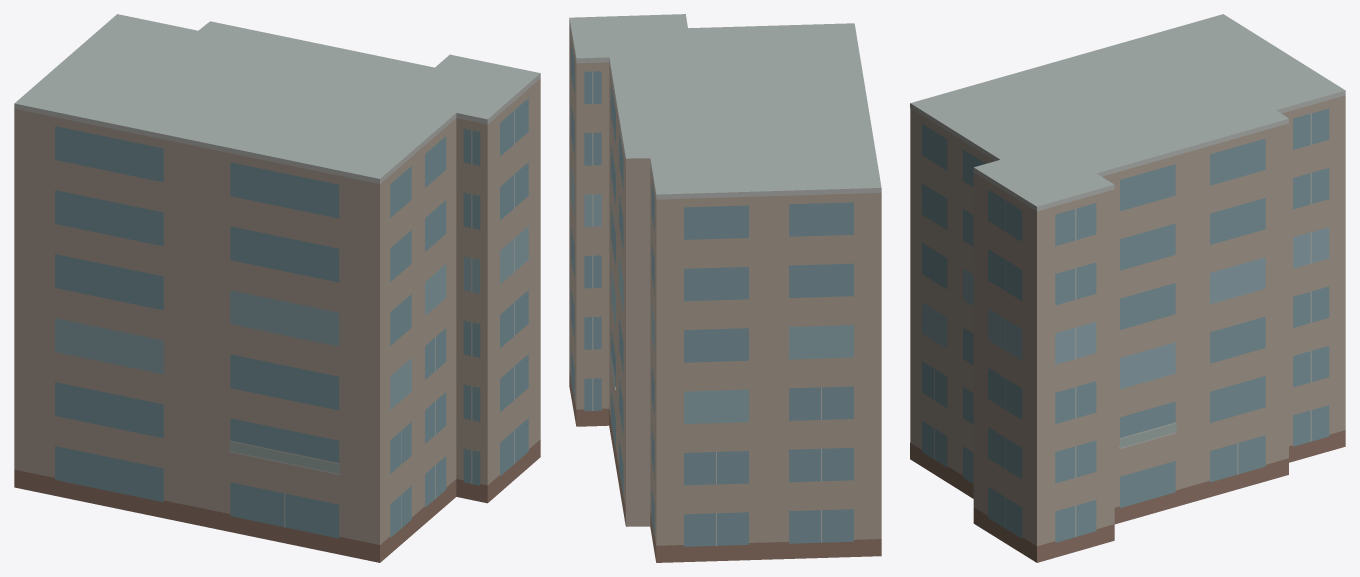
File: survey-upis-32713153.glb
3 views of the same model, side by side, from view 1: azimuth 30°, elevation 25°; view 2: azimuth 150°, elevation 25°; view 3: azimuth 270°, elevation 25° (orthographic). The views are drawn at different scales.
Visible parts, largest first — view 1: survey-upis-32713153.tmp; view 2: survey-upis-32713153.tmp; view 3: survey-upis-32713153.tmp.
Boxes of the visible parts, bbox=[...] form: survey-upis-32713153.tmp: bbox=[14, 14, 540, 562]; survey-upis-32713153.tmp: bbox=[569, 14, 881, 562]; survey-upis-32713153.tmp: bbox=[910, 14, 1345, 562].
Size of the model in its own units: 21.25 by 18.3 by 20.29.
